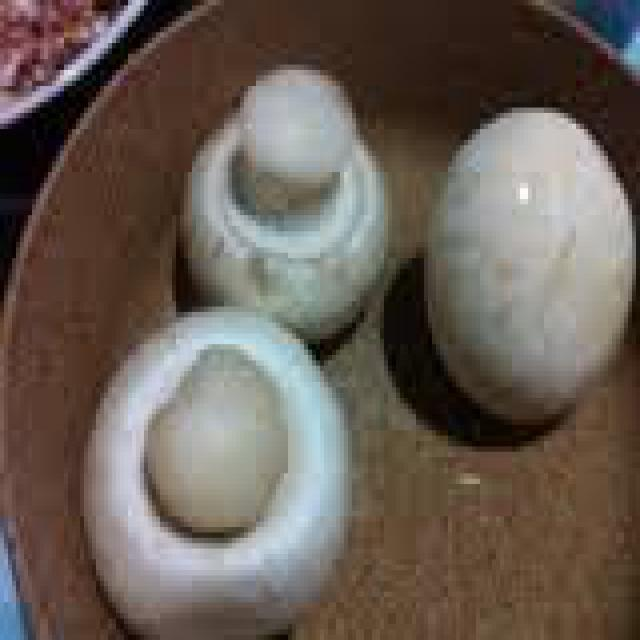Agaricus bisporus: (88, 307, 353, 632), (437, 105, 640, 422), (189, 67, 399, 342)
